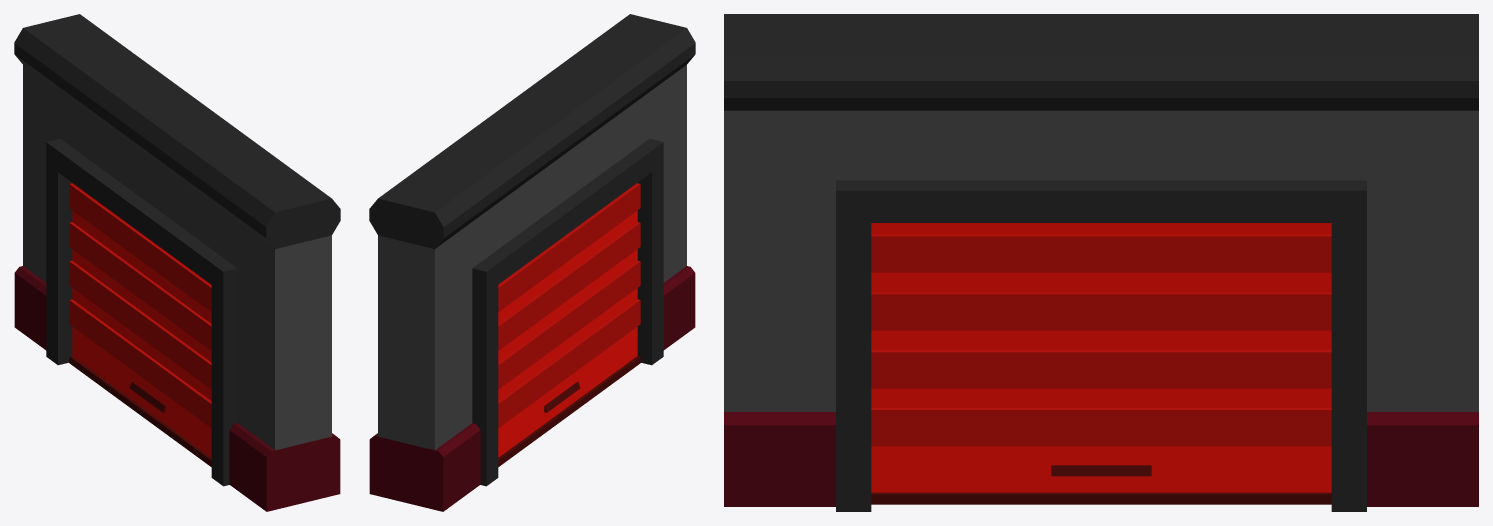
File: Warehouse Garage Door 1.fbx
3 renders of one model, left to right at view 1: azimuth 30°, elevation 25°; view 2: azimuth 150°, elevation 25°; view 3: azimuth 270°, elevation 25°, orthographic. The views are drawn at different scales.
Parts seen in each view (by area): view 1: Warehouse Garage; view 2: Warehouse Garage; view 3: Warehouse Garage.
Part boxes in pixels (x1,y1,x2,y2): Warehouse Garage: (14,14,340,511); Warehouse Garage: (369,14,695,511); Warehouse Garage: (724,14,1478,511).
Size of the model in its own units: 1536 by 300 by 1004.
